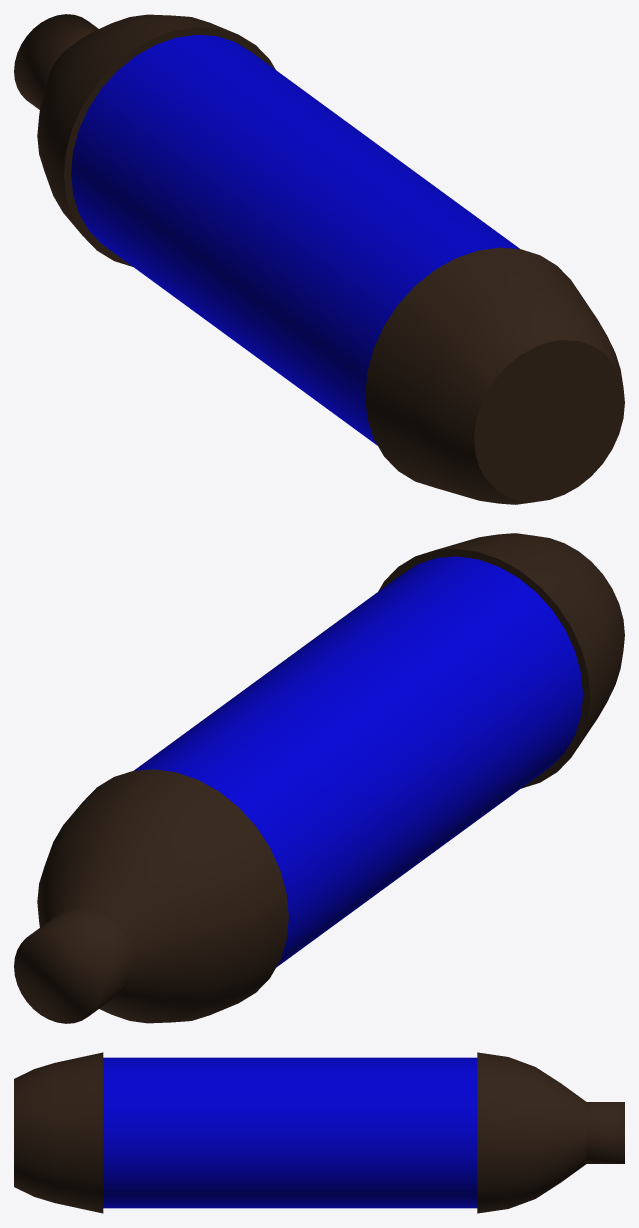
Rendered from bottle7.fbx.
3 renders of one model, top to bottom at view 1: azimuth 30°, elevation 25°; view 2: azimuth 150°, elevation 25°; view 3: azimuth 270°, elevation 25°, orthographic. The views are drawn at different scales.
Visible parts, largest first — view 1: LOD_0.001; view 2: LOD_0.001; view 3: LOD_0.001.
Boxes of the visible parts, <box> form: LOD_0.001: <box>14,14,624,504</box>; LOD_0.001: <box>14,533,624,1023</box>; LOD_0.001: <box>14,1052,624,1213</box>.
Size of the model in its own units: 349 by 349 by 1322.
